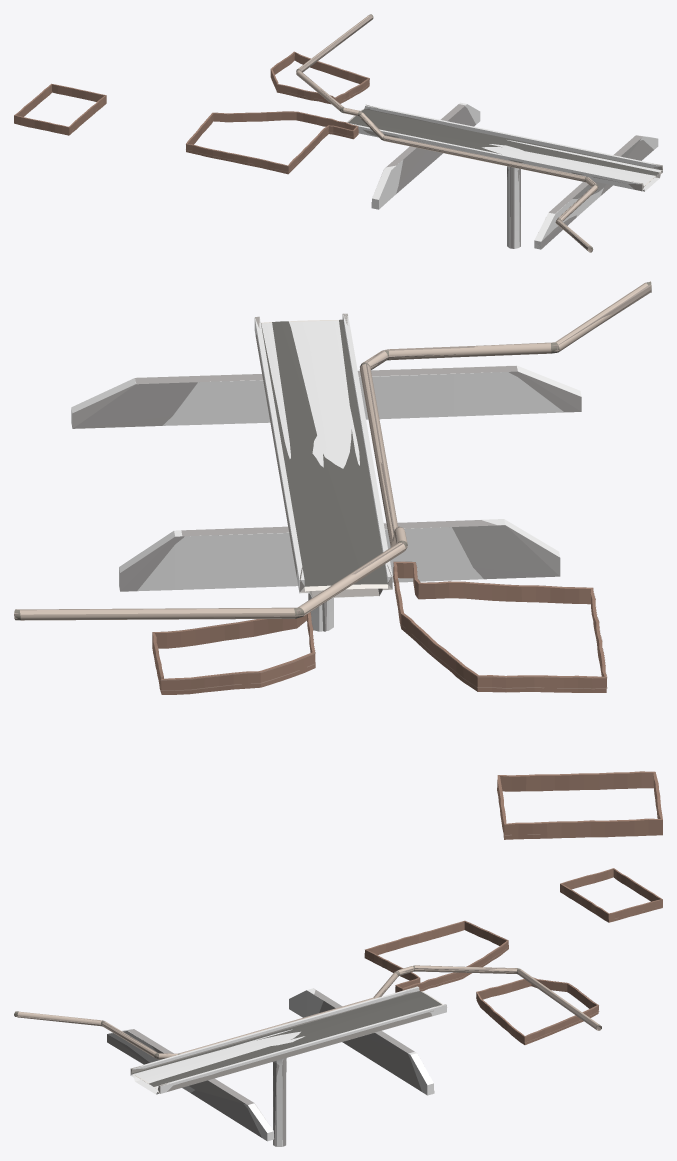
File: pipeline_segment2.dae
3 renders of one model, top to bottom at view 1: azimuth 30°, elevation 25°; view 2: azimuth 150°, elevation 25°; view 3: azimuth 270°, elevation 25°, orthographic. The views are drawn at different scales.
Parts seen in each view (by area): view 1: Colmesh-1, pipeline_segment2_a500, pipeline_segment2_a2000; view 2: Colmesh-1, pipeline_segment2_a500, pipeline_segment2_a2000; view 3: Colmesh-1, pipeline_segment2_a500, pipeline_segment2_a2000.
Boxes of the visible parts, x1,y1,x2,y2 form: Colmesh-1: [14, 14, 662, 252]; pipeline_segment2_a500: [296, 15, 662, 252]; pipeline_segment2_a2000: [15, 52, 660, 185]; Colmesh-1: [14, 282, 662, 839]; pipeline_segment2_a500: [14, 281, 651, 631]; pipeline_segment2_a2000: [152, 314, 662, 839]; Colmesh-1: [14, 868, 662, 1146]; pipeline_segment2_a500: [14, 965, 601, 1146]; pipeline_segment2_a2000: [131, 884, 662, 1088].
Size of the model in its own units: 144 by 162 by 33.95.
